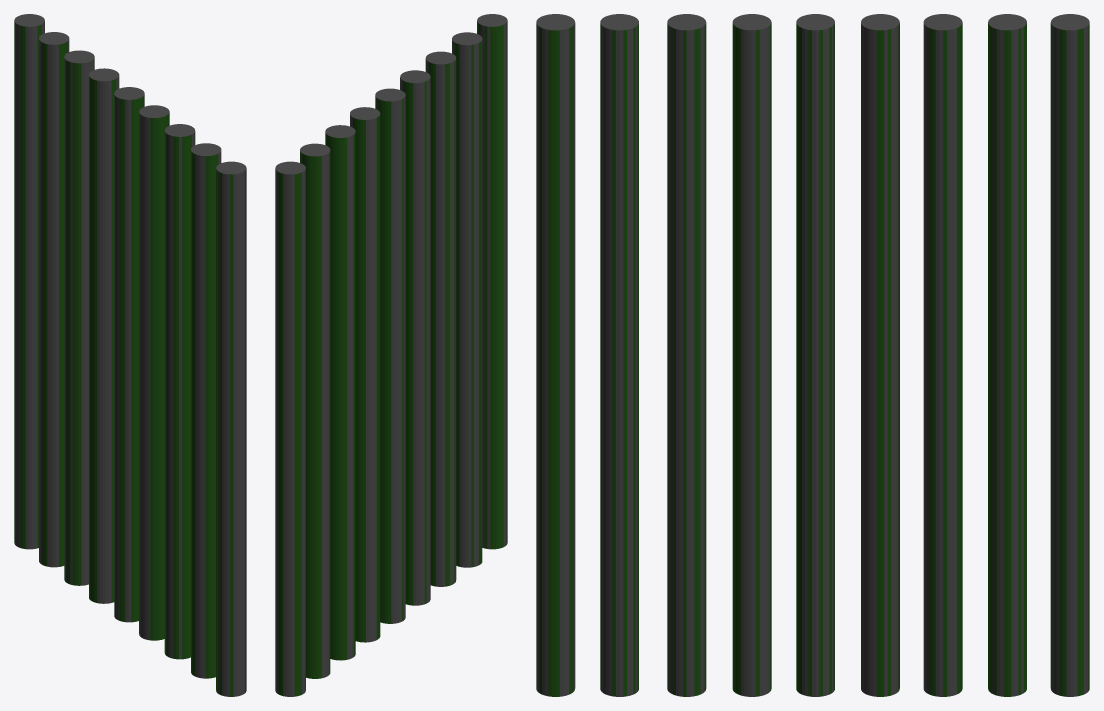
The model's file is Barra_Dungeon_Floresta.fbx.
The picture shows the model from 3 angles, left to right: view 1: azimuth 30°, elevation 25°; view 2: azimuth 150°, elevation 25°; view 3: azimuth 270°, elevation 25°; orthographic projection. The views are drawn at different scales.
Parts seen in each view (by area): view 1: Barra_Floresta; view 2: Barra_Floresta; view 3: Barra_Floresta.
Part boxes in pixels (box(x1,y1,x2,y2)): Barra_Floresta: box(14, 14, 246, 696); Barra_Floresta: box(275, 14, 507, 696); Barra_Floresta: box(536, 14, 1089, 696).
Bounding box in the file's own units: 10 × 189 × 142.
